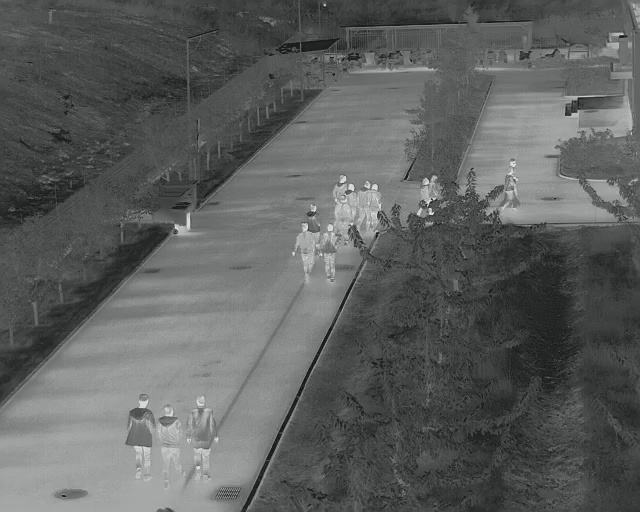person: (184, 395, 218, 482), (125, 392, 156, 484), (154, 404, 184, 489), (291, 221, 316, 283), (319, 221, 343, 284), (360, 180, 383, 228), (502, 156, 519, 213), (336, 195, 351, 230), (333, 173, 348, 203), (348, 183, 358, 224), (305, 202, 319, 229), (416, 177, 430, 203), (430, 174, 442, 202)
